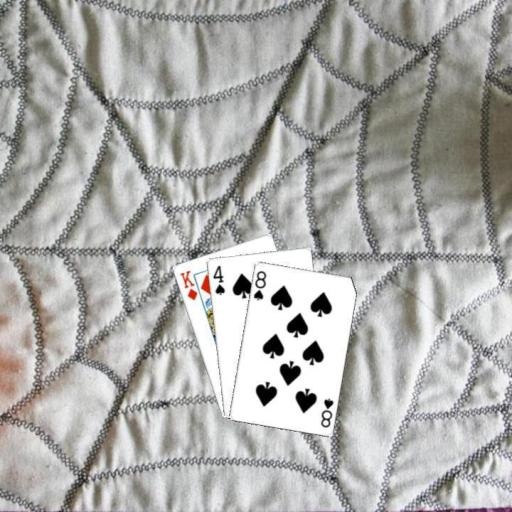card-corner: (176, 268, 199, 302), (250, 268, 268, 302), (317, 394, 335, 428), (210, 262, 226, 296)
